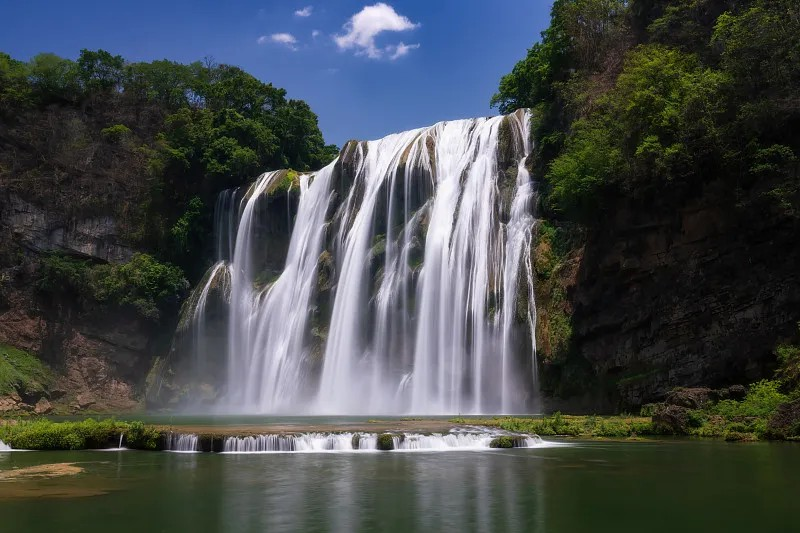Huangguoshu: (187, 108, 539, 414)
